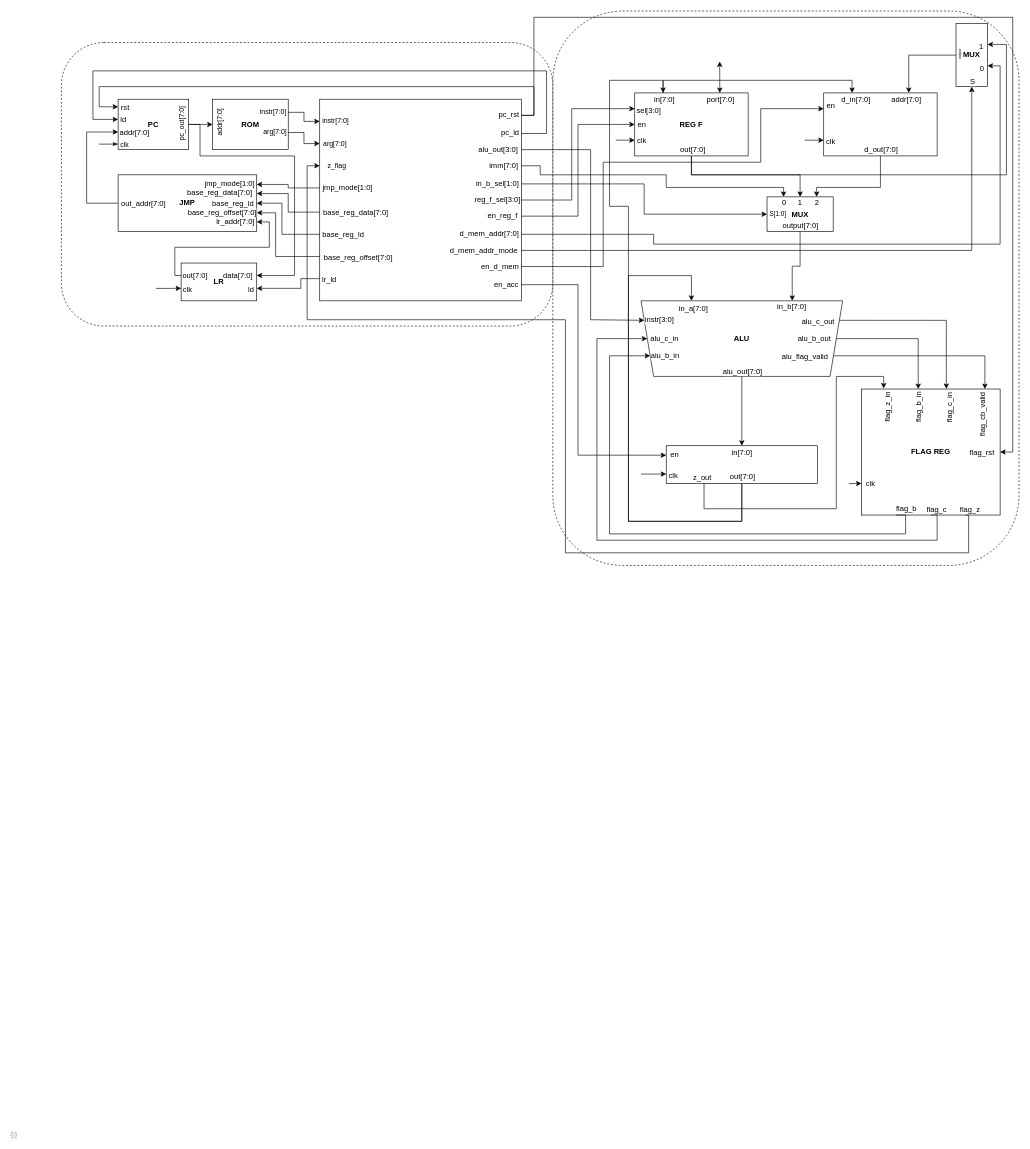
Some shapes in this 1030 by 1149 pixel diagram are drawn without their labels. Grey dashed boxes stand in for pictures. Here are the shapes that lost their labels. From the top down, the box of each, then its label:
(823, 92, 937, 156): DATA MEM
(61, 42, 553, 326): CPU CTRL
(319, 99, 521, 301): ID
(552, 10, 1019, 565): CPU DATA
(666, 445, 817, 484): ACC
